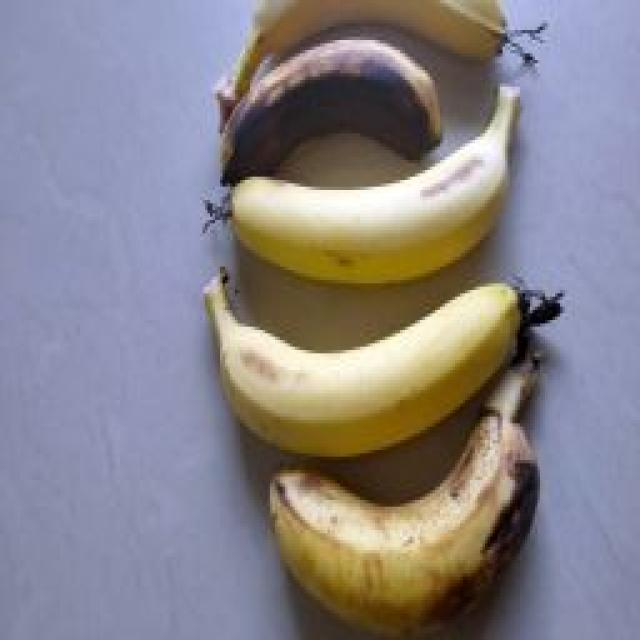Organik: (216, 344, 614, 636), (221, 94, 562, 292), (188, 257, 538, 445), (172, 7, 604, 101), (171, 48, 449, 191)
